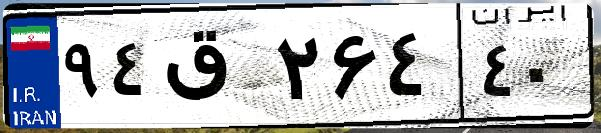0: (525, 38, 570, 115)
2: (270, 28, 330, 110)
4: (385, 28, 445, 110), (475, 38, 525, 113), (110, 28, 158, 98)
6: (330, 28, 385, 110)
9: (57, 26, 110, 100)
ق: (158, 20, 270, 120)
